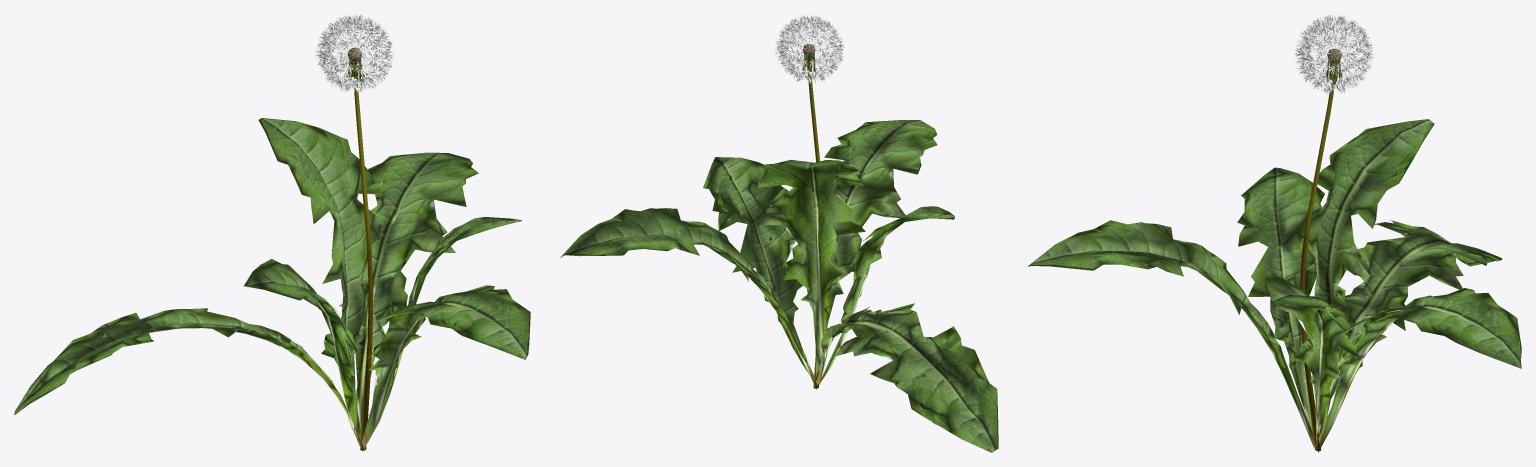
The model's file is flower3.fbx.
The picture shows the model from 3 angles, left to right: view 1: azimuth 30°, elevation 25°; view 2: azimuth 150°, elevation 25°; view 3: azimuth 270°, elevation 25°; orthographic projection. The views are drawn at different scales.
Parts seen in each view (by area): view 1: dandelion19; view 2: dandelion19; view 3: dandelion19.
Part boxes in pixels (x1,y1,x2,y2): dandelion19: [14, 15, 530, 451]; dandelion19: [560, 15, 998, 452]; dandelion19: [1028, 15, 1521, 452].
Bounding box in the file's own units: 391 × 342 × 352.
